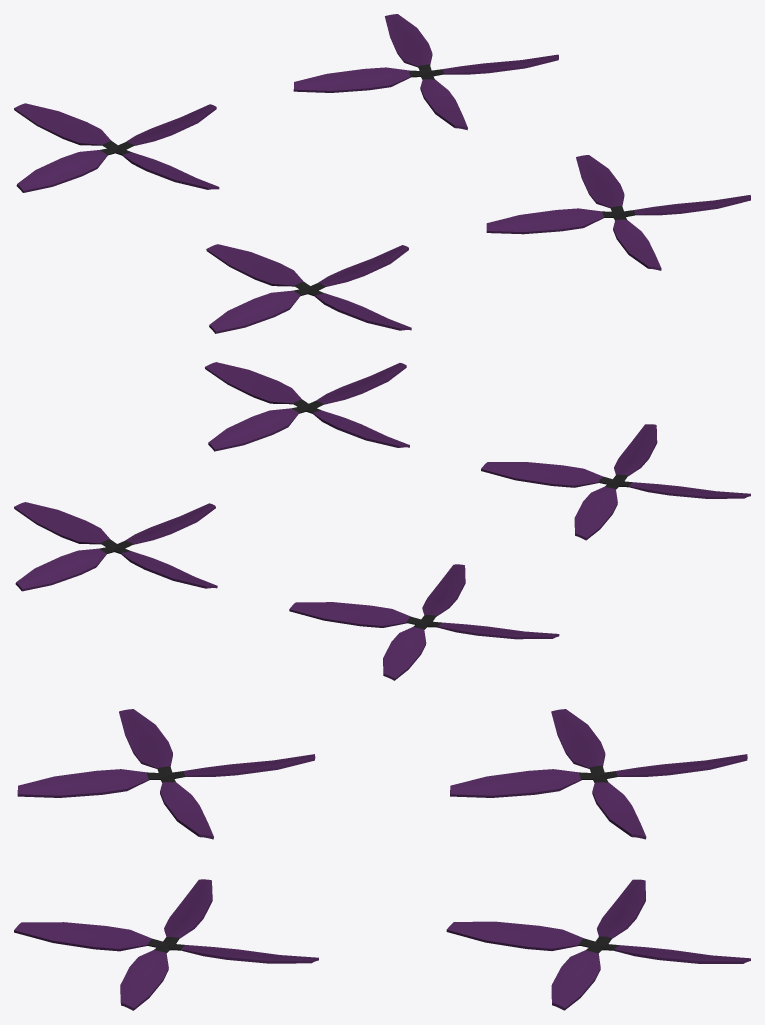
Rendered from Helice3.gltf.
3 renders of one model, top to bottom at view 1: azimuth 30°, elevation 25°; view 2: azimuth 150°, elevation 25°; view 3: azimuth 270°, elevation 25°, orthographic. The views are drawn at different scales.
Visible parts, largest first — view 1: Helice_3, Helice_3.001, Helice_3.003, Helice_3.002; view 2: Helice_3.002, Helice_3.003, Helice_3.001, Helice_3; view 3: Helice_3.003, Helice_3.002, Helice_3.001, Helice_3.
Boxes of the visible parts, x1,y1,x2,y2 form: Helice_3: (206,244,411,333); Helice_3.001: (14,103,219,192); Helice_3.003: (486,155,750,270); Helice_3.002: (293,14,558,130); Helice_3.002: (14,502,217,591); Helice_3.003: (205,362,409,451); Helice_3.001: (289,564,559,680); Helice_3: (481,424,750,540); Helice_3.003: (14,879,318,1010); Helice_3.002: (446,879,750,1010); Helice_3.001: (450,709,747,839); Helice_3: (17,709,315,839).
Size of the model in its own units: 4.52 by 0.065 by 4.74.
